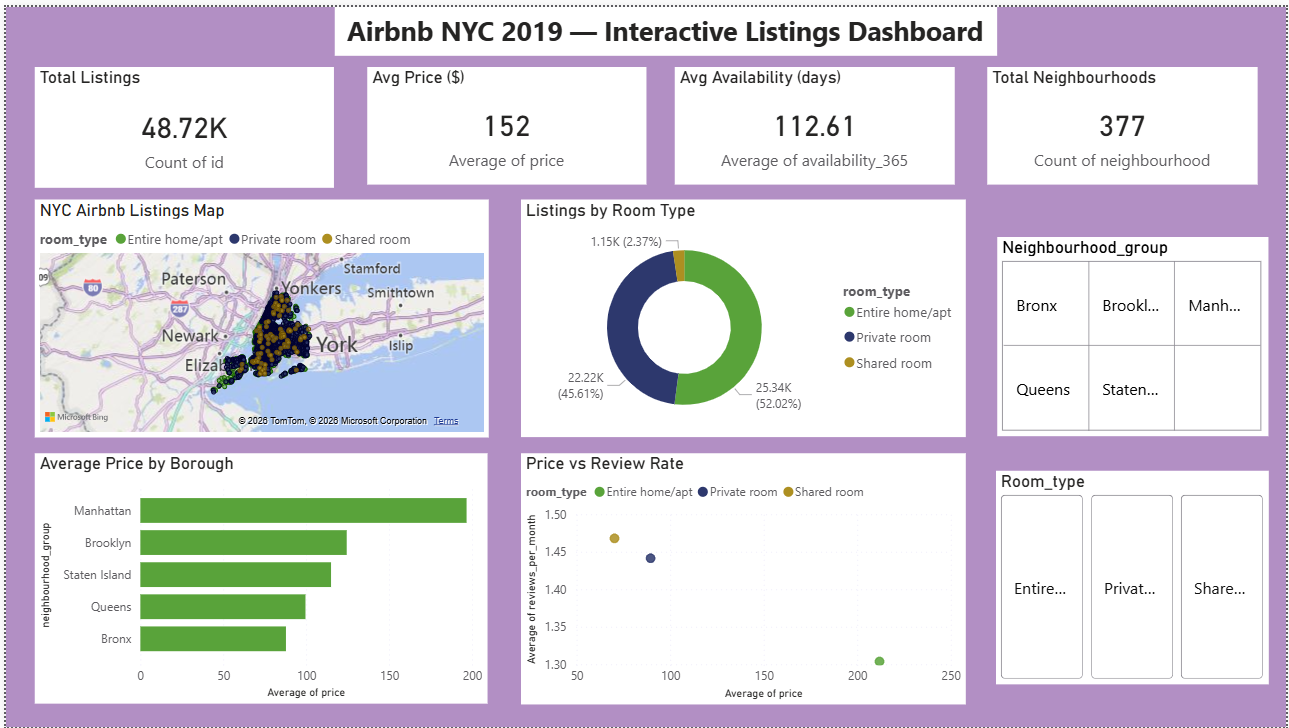

This screenshot's page, from the dashboard's own definition file:
{"tool":"powerbi","page":{"name":"Page 1","canvas":[1280,720],"ordinal":0},"visuals":[{"type":"card","title":"Avg Availability (days)","fields":{"Values":["Avg(AB_NYC_2019.availability_365)"]},"box":[668.9,59.9,280,117.4],"z":0},{"type":"card","title":"Avg Price ($)","fields":{"Values":["Avg(AB_NYC_2019.price)"]},"box":[360.7,59.9,278.8,117.4],"z":1000},{"type":"card","title":"Total Listings","fields":{"Values":["Count(AB_NYC_2019.id)"]},"box":[28.1,59.9,299.6,121.1],"z":2000},{"type":"map","title":"NYC Airbnb Listings Map","fields":{"Series":["AB_NYC_2019.room_type"],"X":["AB_NYC_2019.longitude"],"Y":["AB_NYC_2019.latitude"]},"box":[28.1,192,453.7,237.2],"z":3000},{"type":"donutChart","title":"Listings by Room Type","fields":{"Category":["AB_NYC_2019.room_type"],"Y":["CountNonNull(AB_NYC_2019.id)"]},"box":[514.8,192,445.1,237.2],"z":4000},{"type":"clusteredBarChart","title":"Average Price by Borough","fields":{"Category":["AB_NYC_2019.neighbourhood_group"],"Y":["Avg(AB_NYC_2019.price)"]},"box":[29.3,446.3,452.4,250.7],"z":5000},{"type":"card","title":"Total Neighbourhoods","fields":{"Values":["Count(AB_NYC_2019.neighbourhood)"]},"box":[980.7,59.9,270.2,117.4],"z":6000},{"type":"advancedSlicerVisual","title":"Neighbourhood_group","fields":{"Values":["AB_NYC_2019.neighbourhood_group"]},"box":[991.7,229.9,271.5,199.3],"z":7000},{"type":"advancedSlicerVisual","title":"Room_type","fields":{"Values":["AB_NYC_2019.room_type"]},"box":[990.5,463.5,272.7,214],"z":8000},{"type":"scatterChart","title":"Price vs Review Rate","fields":{"X":["Avg(AB_NYC_2019.price)"],"Y":["Avg(AB_NYC_2019.reviews_per_month)"],"Series":["AB_NYC_2019.room_type"]},"box":[515,446,445,251],"z":9000},{"type":"textbox","box":[328.9,0,662.8,48.9],"z":10000}]}

Visuals, with their boxes in screenshot pixels (x1, y1, x2, y2), scaled from the page's 1280x720 canvas onto the 1289x728 screenshot:
"Avg Availability (days)" card: 674/61/956/179
"Avg Price ($)" card: 363/61/644/179
"Total Listings" card: 28/61/330/183
"NYC Airbnb Listings Map" map: 28/194/485/434
"Listings by Room Type" donutChart: 518/194/967/434
"Average Price by Borough" clusteredBarChart: 30/451/485/705
"Total Neighbourhoods" card: 988/61/1260/179
"Neighbourhood_group" advancedSlicerVisual: 999/232/1272/434
"Room_type" advancedSlicerVisual: 997/469/1272/685
"Price vs Review Rate" scatterChart: 519/451/967/705
textbox: 331/0/999/49
